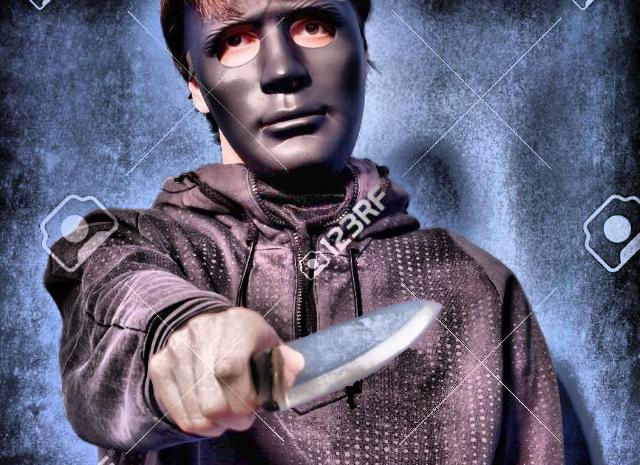knife: (170, 292, 458, 438)
